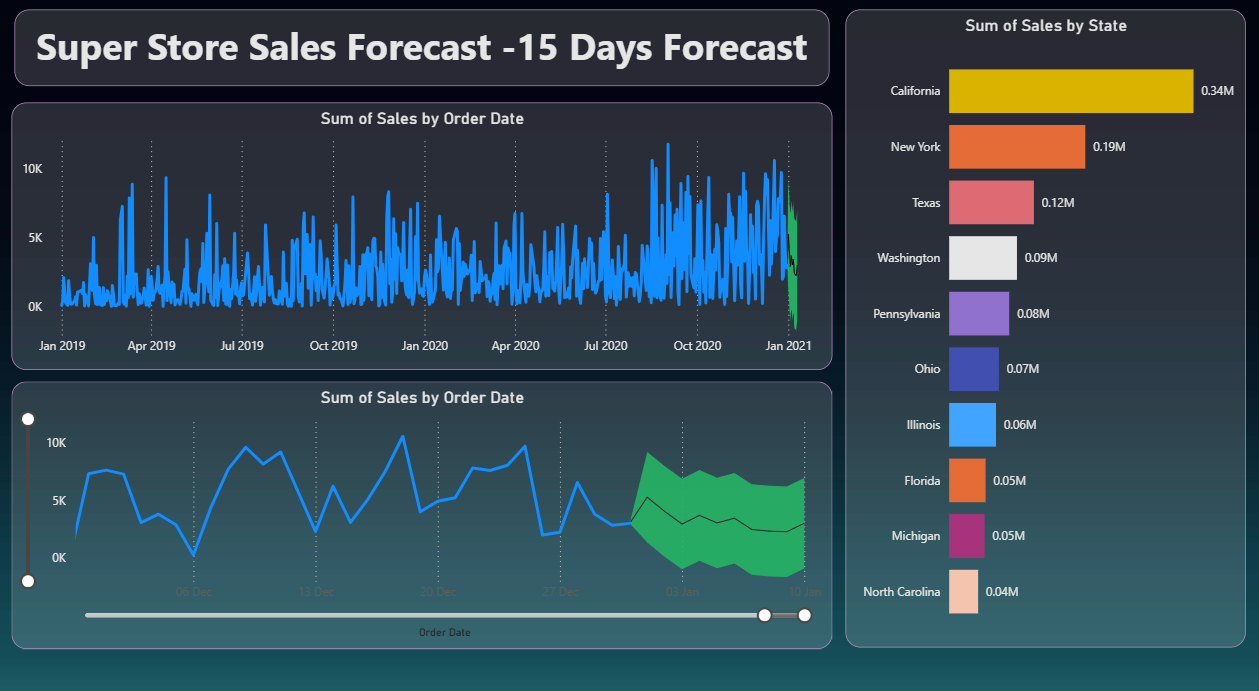

This screenshot's page, from the dashboard's own definition file:
{"tool":"powerbi","page":{"name":"Page 2","canvas":[1280,720],"ordinal":1},"visuals":[{"type":"lineChart","fields":{"Y":["Sum(SuperStore_Sales_Dataset.Sales)"],"Category":["SuperStore_Sales_Dataset.Order Date"]},"box":[20,107.1,828.6,270],"z":0},{"type":"textbox","box":[22.9,14.3,822.9,77.1],"z":1000},{"type":"clusteredBarChart","fields":{"Category":["SuperStore_Sales_Dataset.State"],"Y":["Sum(SuperStore_Sales_Dataset.Sales)"]},"box":[861.4,14.3,404.3,644.3],"z":2000},{"type":"lineChart","fields":{"Y":["Sum(SuperStore_Sales_Dataset.Sales)"],"Category":["SuperStore_Sales_Dataset.Order Date"]},"box":[20,388.6,828.6,270],"z":3000}]}

Visuals, with their boxes in screenshot pixels (x1, y1, x2, y2), scaled from the page's 1280x720 canvas onto the 1259x691 screenshot:
lineChart - Sum(SuperStore_Sales_Dataset.Sales) x SuperStore_Sales_Dataset.Order Date: Rect(20, 103, 835, 362)
textbox: Rect(23, 14, 832, 88)
clusteredBarChart - SuperStore_Sales_Dataset.State x Sum(SuperStore_Sales_Dataset.Sales): Rect(847, 14, 1245, 632)
lineChart - Sum(SuperStore_Sales_Dataset.Sales) x SuperStore_Sales_Dataset.Order Date: Rect(20, 373, 835, 632)
